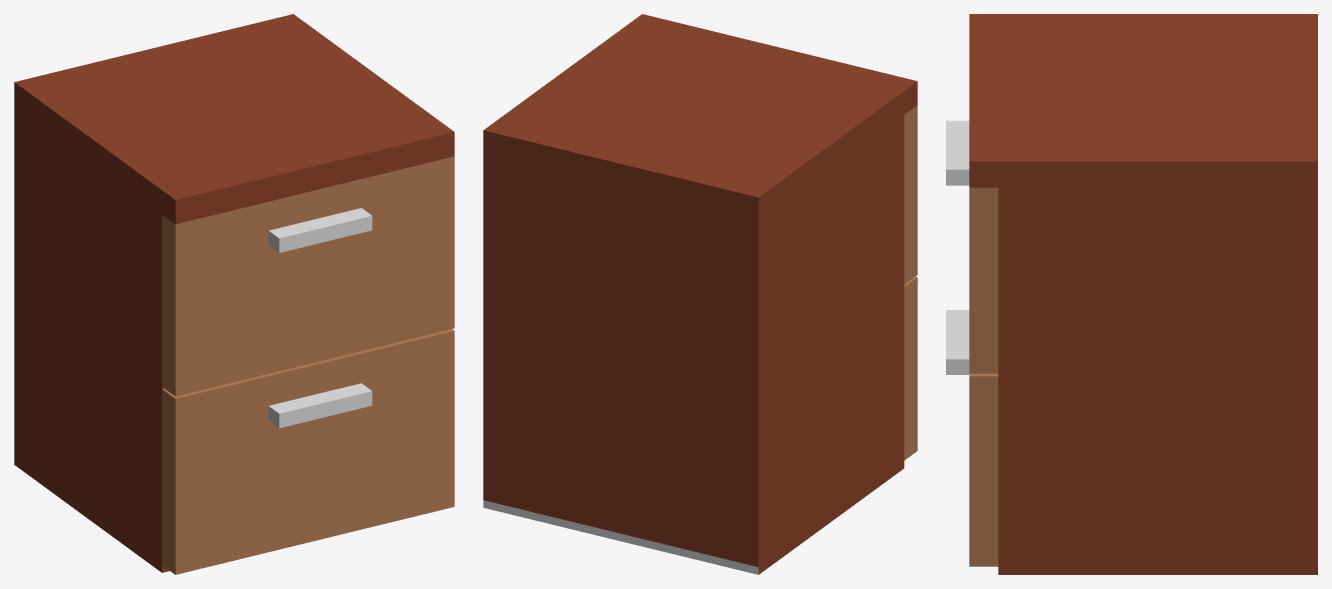
Rendered from Night_Table.fbx.
The picture shows the model from 3 angles, left to right: view 1: azimuth 30°, elevation 25°; view 2: azimuth 150°, elevation 25°; view 3: azimuth 270°, elevation 25°; orthographic projection. The views are drawn at different scales.
Visible parts, largest first — view 1: cabinet-kitchen; view 2: cabinet-kitchen; view 3: cabinet-kitchen.
Part boxes in pixels (x1,y1,x2,y2): cabinet-kitchen: (14, 14, 454, 574); cabinet-kitchen: (483, 14, 917, 574); cabinet-kitchen: (946, 14, 1317, 574).
Bounding box in the file's own units: 0.6 × 0.786 × 0.64.
